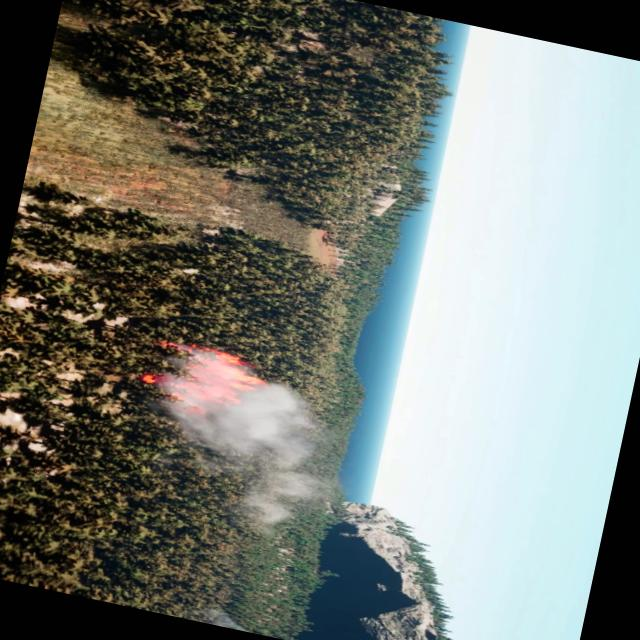fire: (143, 334, 265, 424)
smoke: (132, 350, 342, 537)
